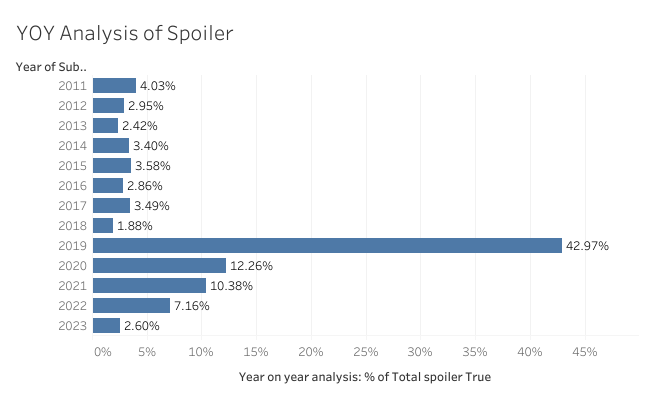

The dashboard page shown, as its layout file describes it:
{"tool":"tableau","page":{"name":"Dashboard 4","canvas":[1000,1000],"units":"permille","ordinal":3},"visuals":[{"type":"worksheet","title":"Spoiler","mark":"Bar","rows":["submissionDate"],"cols":["spoiler_True"],"box":[12.3,10.5,975.4,978.9]}]}

Visuals, with their boxes on the dashboard's canvas, which has no fixed pixel size, in thousandths of its width and height (x1, y1, x2, y2). These are canvas units, not pixel positions in the 649x396 screenshot, which may show the page scaled, cropped or inside an application window:
"Spoiler" worksheet (Bar marks): [12,10,988,989]
